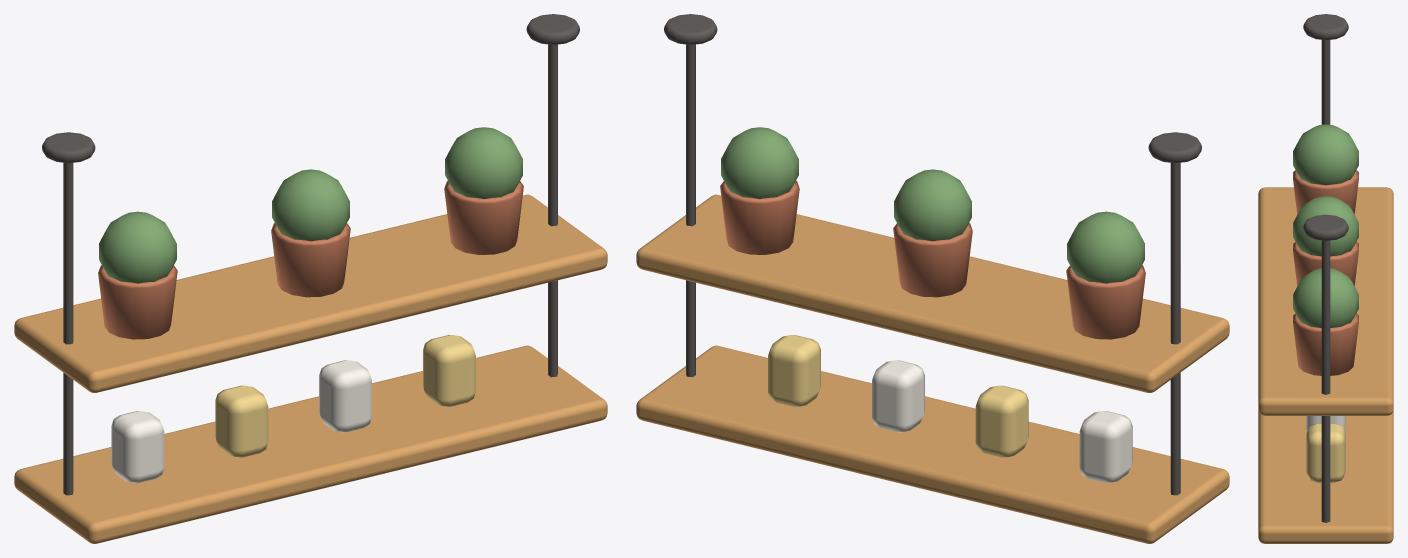
Rendered from hanging_plant_shelves.glb.
3 renders of one model, left to right at view 1: azimuth 30°, elevation 25°; view 2: azimuth 150°, elevation 25°; view 3: azimuth 270°, elevation 25°, orthographic. The views are drawn at different scales.
Visible parts, largest first — view 1: hanging_plant_shelves_mesh; view 2: hanging_plant_shelves_mesh; view 3: hanging_plant_shelves_mesh.
Part boxes in pixels (x1,y1,x2,y2): hanging_plant_shelves_mesh: [14, 14, 607, 543]; hanging_plant_shelves_mesh: [636, 14, 1229, 543]; hanging_plant_shelves_mesh: [1258, 14, 1393, 543].
Size of the model in its own units: 0.92 by 0.62 by 0.24.
